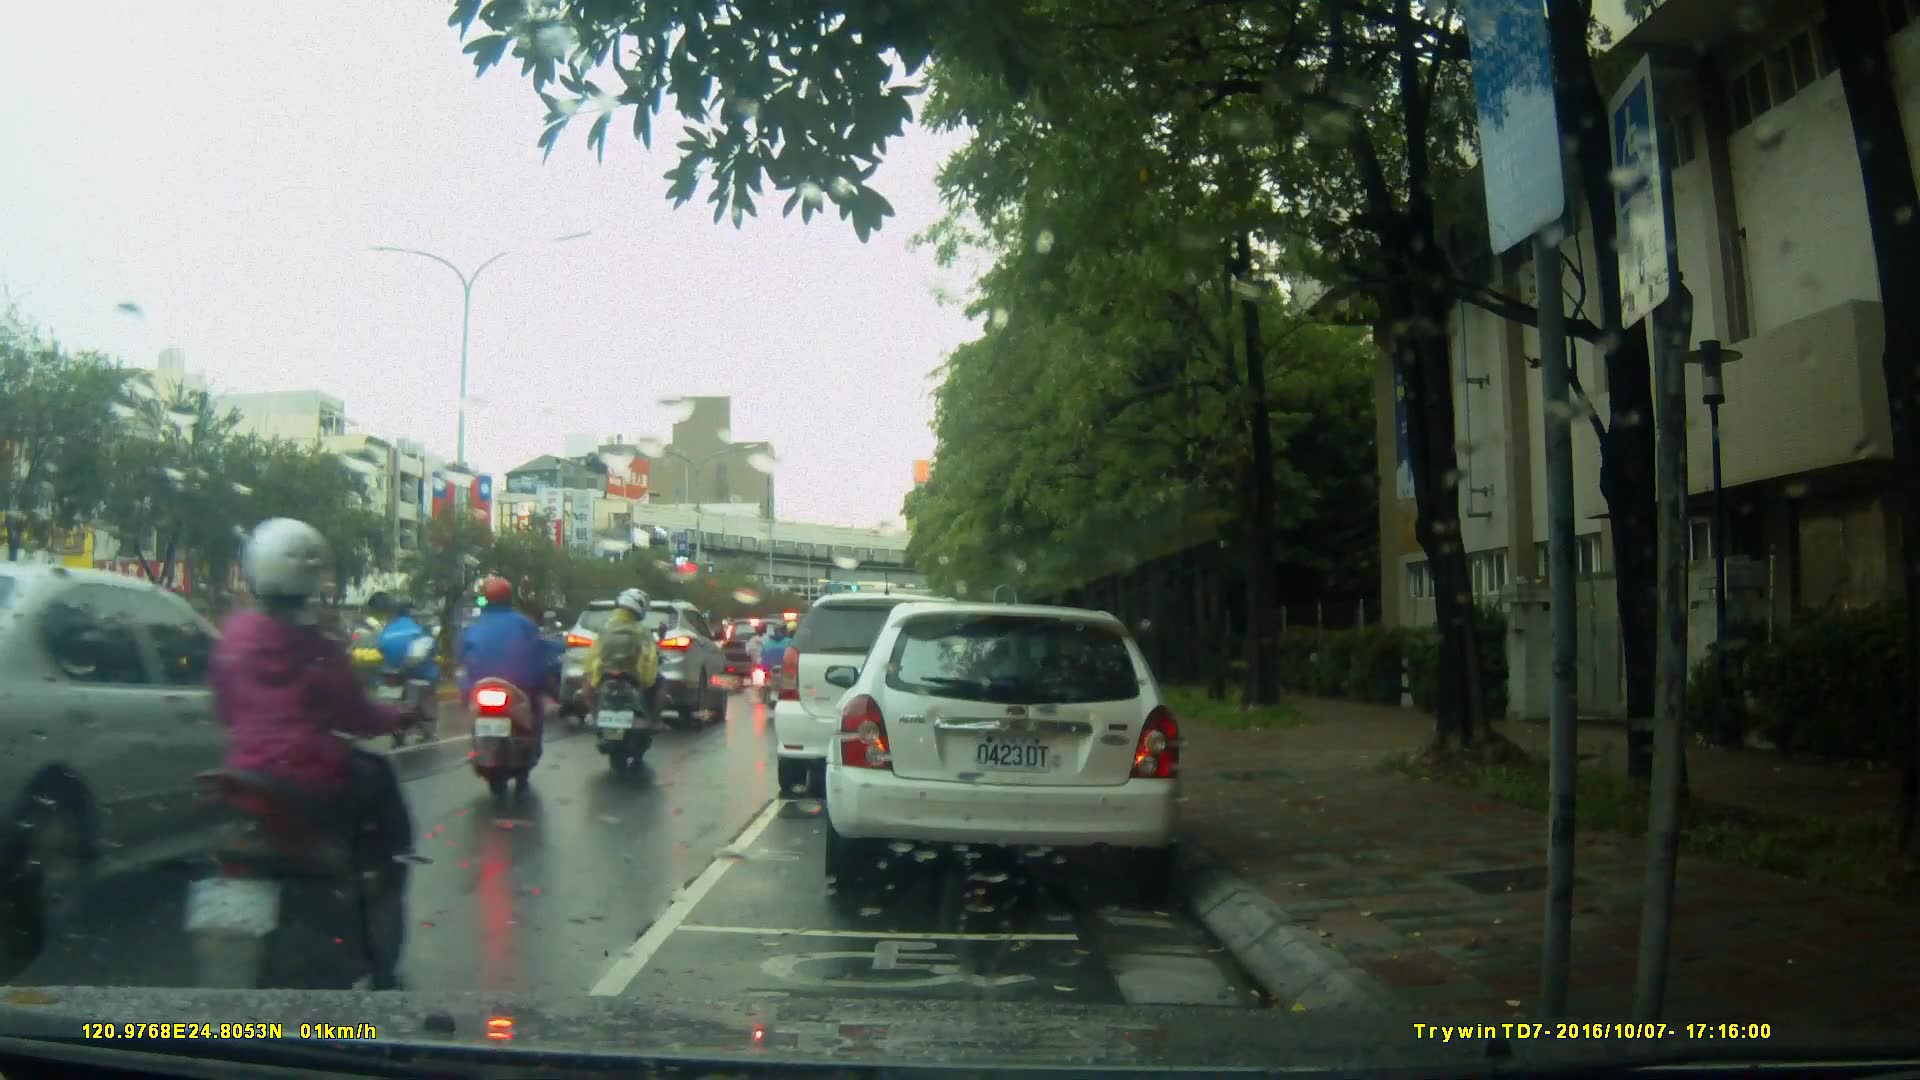rider: (170, 512, 438, 997), (467, 573, 555, 795), (581, 589, 667, 779), (372, 598, 446, 747), (518, 607, 581, 702), (753, 617, 806, 707), (749, 621, 784, 704)
vehicle: (1, 563, 365, 955), (822, 604, 1188, 883), (774, 595, 995, 802), (557, 600, 729, 730)
